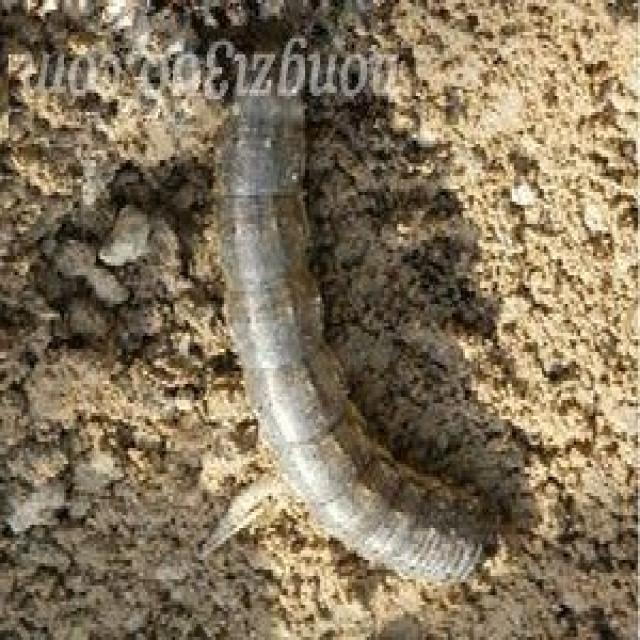black cutworm: (197, 36, 500, 593)
